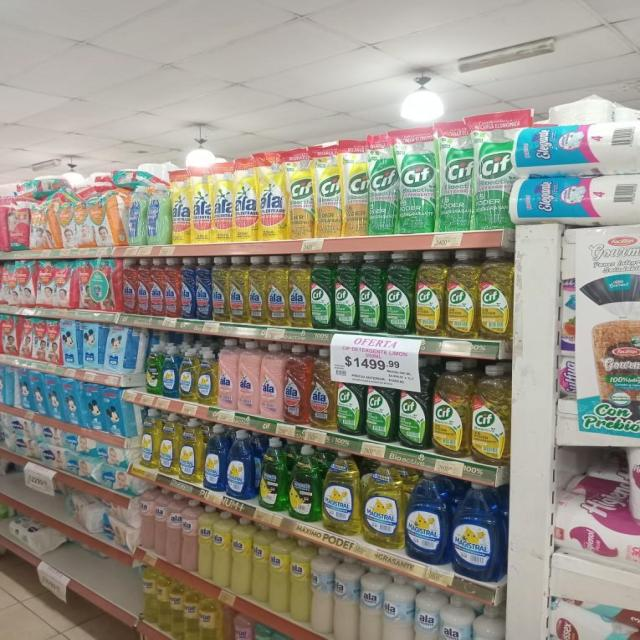ala_conc_amarillo: (310, 347, 336, 430), (288, 253, 310, 328), (268, 254, 288, 326), (229, 255, 248, 324), (249, 255, 266, 325), (212, 256, 228, 322)
ala_conc_azul: (196, 256, 212, 321), (181, 257, 195, 320)
ala_conc_rojo: (284, 344, 309, 426), (165, 257, 180, 318), (150, 258, 164, 317), (122, 258, 136, 314), (137, 258, 149, 315)
ala_crem_amarillo: (290, 536, 310, 624), (270, 529, 290, 615), (232, 516, 251, 596), (213, 510, 230, 588), (252, 524, 268, 604), (198, 506, 213, 582)
ala_crem_blanco: (333, 554, 358, 640), (383, 574, 412, 640), (359, 564, 382, 639), (413, 584, 439, 640), (439, 596, 471, 640), (472, 607, 504, 640)
ala_crem_rosado: (181, 501, 197, 572), (166, 496, 181, 567)
ala_sachet_amarillo: (259, 152, 286, 241), (234, 156, 258, 242), (214, 159, 234, 243), (192, 163, 212, 244), (170, 168, 190, 245)
ala_ultra_rosa: (261, 342, 283, 420), (238, 340, 260, 415), (218, 338, 237, 411)
cif_conc_bot_amarilla: (472, 364, 509, 465), (433, 358, 470, 458), (479, 249, 511, 340), (447, 250, 478, 339), (415, 250, 445, 337)
cif_conc_botella_verde: (398, 358, 431, 450), (385, 251, 414, 335), (366, 363, 396, 442), (358, 251, 383, 333), (337, 363, 365, 436), (334, 252, 357, 331), (310, 253, 333, 329)
cif_conc_sachet_amarillo: (315, 144, 342, 236), (343, 139, 368, 237), (288, 148, 314, 240)
cif_conc_sachet_verde: (473, 116, 513, 230), (398, 128, 436, 234), (437, 123, 472, 232), (369, 134, 397, 235)
heroe: (234, 613, 253, 640)
magistral_con_amarillo: (363, 463, 403, 549), (323, 450, 360, 536), (179, 417, 203, 483), (140, 408, 160, 471), (160, 412, 179, 476), (198, 346, 216, 406), (179, 347, 197, 402)
magistral_con_azul: (452, 481, 502, 581), (406, 472, 448, 564), (227, 429, 256, 500), (204, 424, 226, 492), (162, 344, 178, 398)
